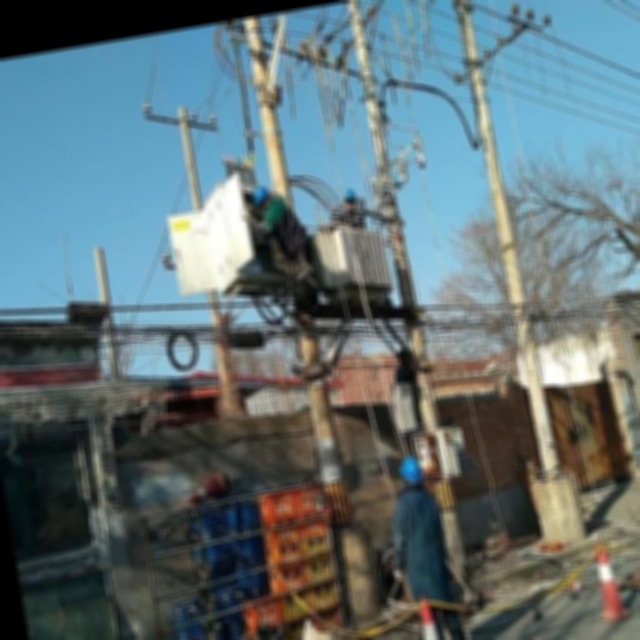Con_Casco: (398, 455, 424, 488)
Sin_Chaleco: (394, 486, 446, 569)
